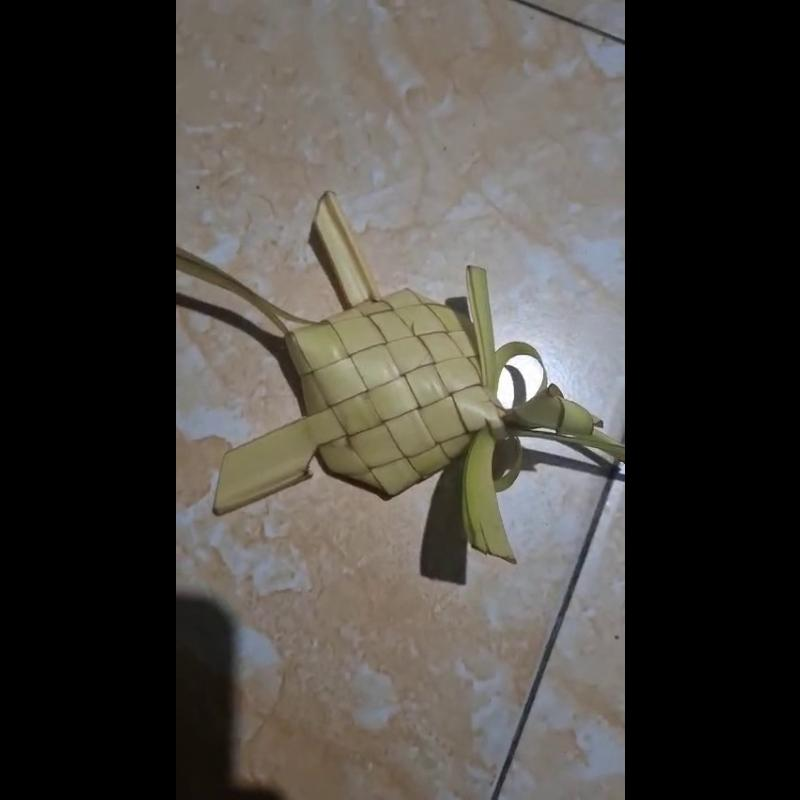Tipat Dampulan: (176, 191, 622, 565)
